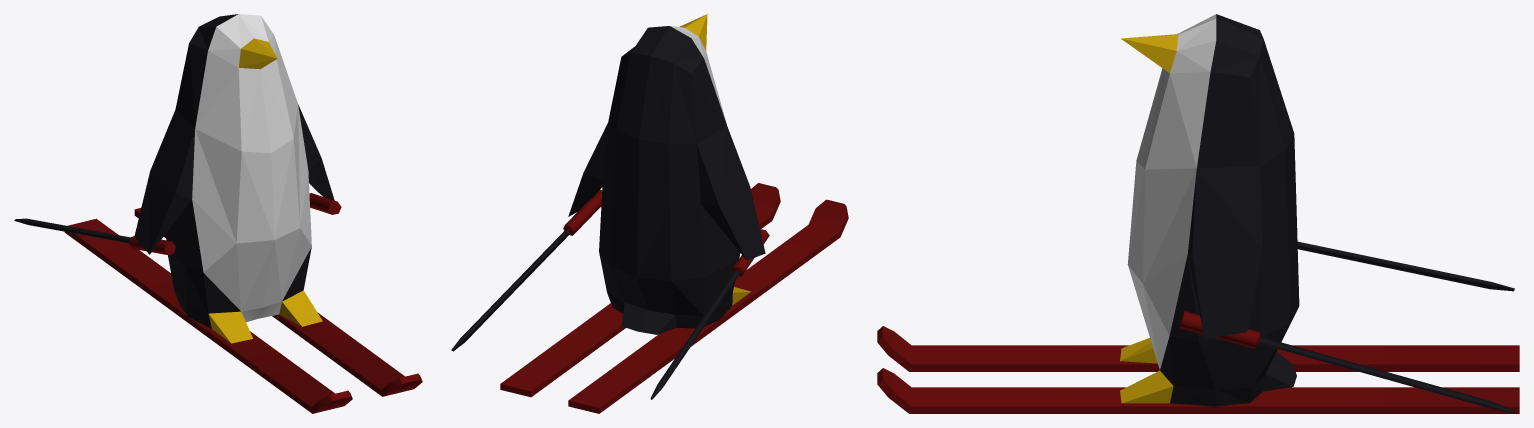
Rendered from penguin_ski.FBX.
3 views of the same model, side by side, from view 1: azimuth 30°, elevation 25°; view 2: azimuth 150°, elevation 25°; view 3: azimuth 270°, elevation 25° (orthographic). The views are drawn at different scales.
Visible parts, largest first — view 1: penguin_ski; view 2: penguin_ski; view 3: penguin_ski.
Boxes of the visible parts, x1,y1,x2,y2 form: penguin_ski: [14, 14, 422, 413]; penguin_ski: [451, 14, 848, 413]; penguin_ski: [877, 14, 1519, 413].
Bounding box in the file's own units: 18.45 × 25.08 × 40.02.
